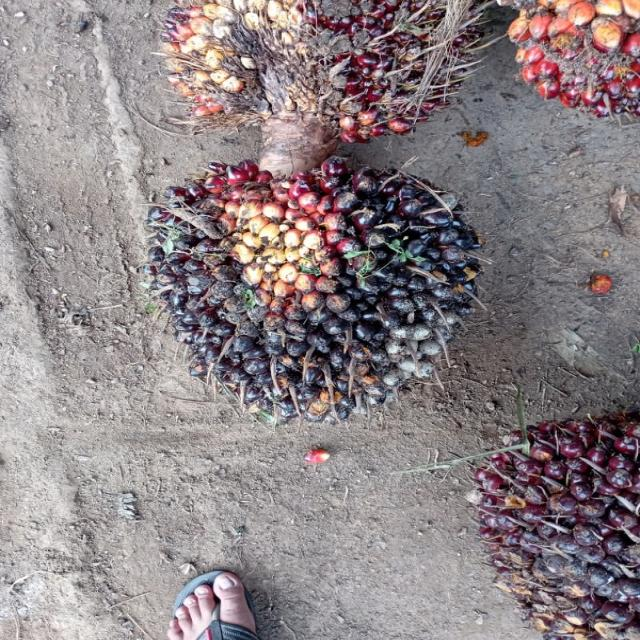fraksi 00: (130, 154, 489, 429)
fraksi 1: (464, 413, 640, 639)
